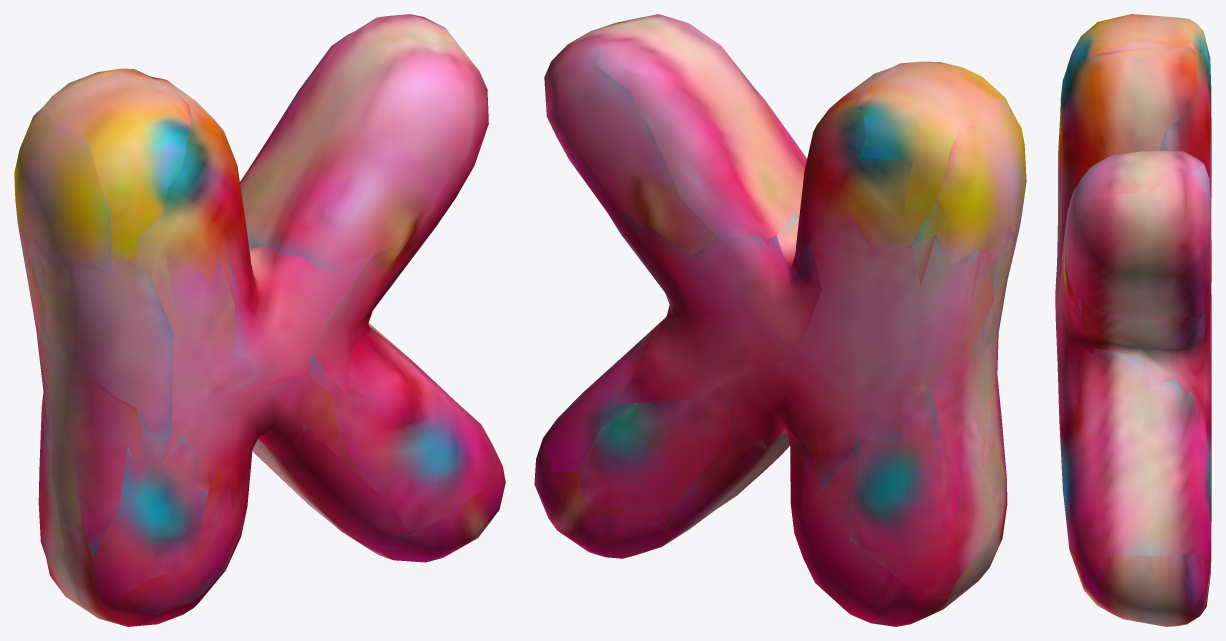
The picture shows the model from 3 angles, left to right: view 1: azimuth 30°, elevation 25°; view 2: azimuth 150°, elevation 25°; view 3: azimuth 270°, elevation 25°; orthographic projection. The views are drawn at different scales.
Parts seen in each view (by area): view 1: Candy-Letter-K; view 2: Candy-Letter-K; view 3: Candy-Letter-K.
Boxes of the visible parts, bbox=[...] form: Candy-Letter-K: bbox=[14, 14, 505, 626]; Candy-Letter-K: bbox=[534, 14, 1026, 626]; Candy-Letter-K: bbox=[1055, 14, 1211, 626].
Size of the model in its own units: 0.315 by 0.3556 by 0.107.
Materials: 1 (1 with a texture image).
